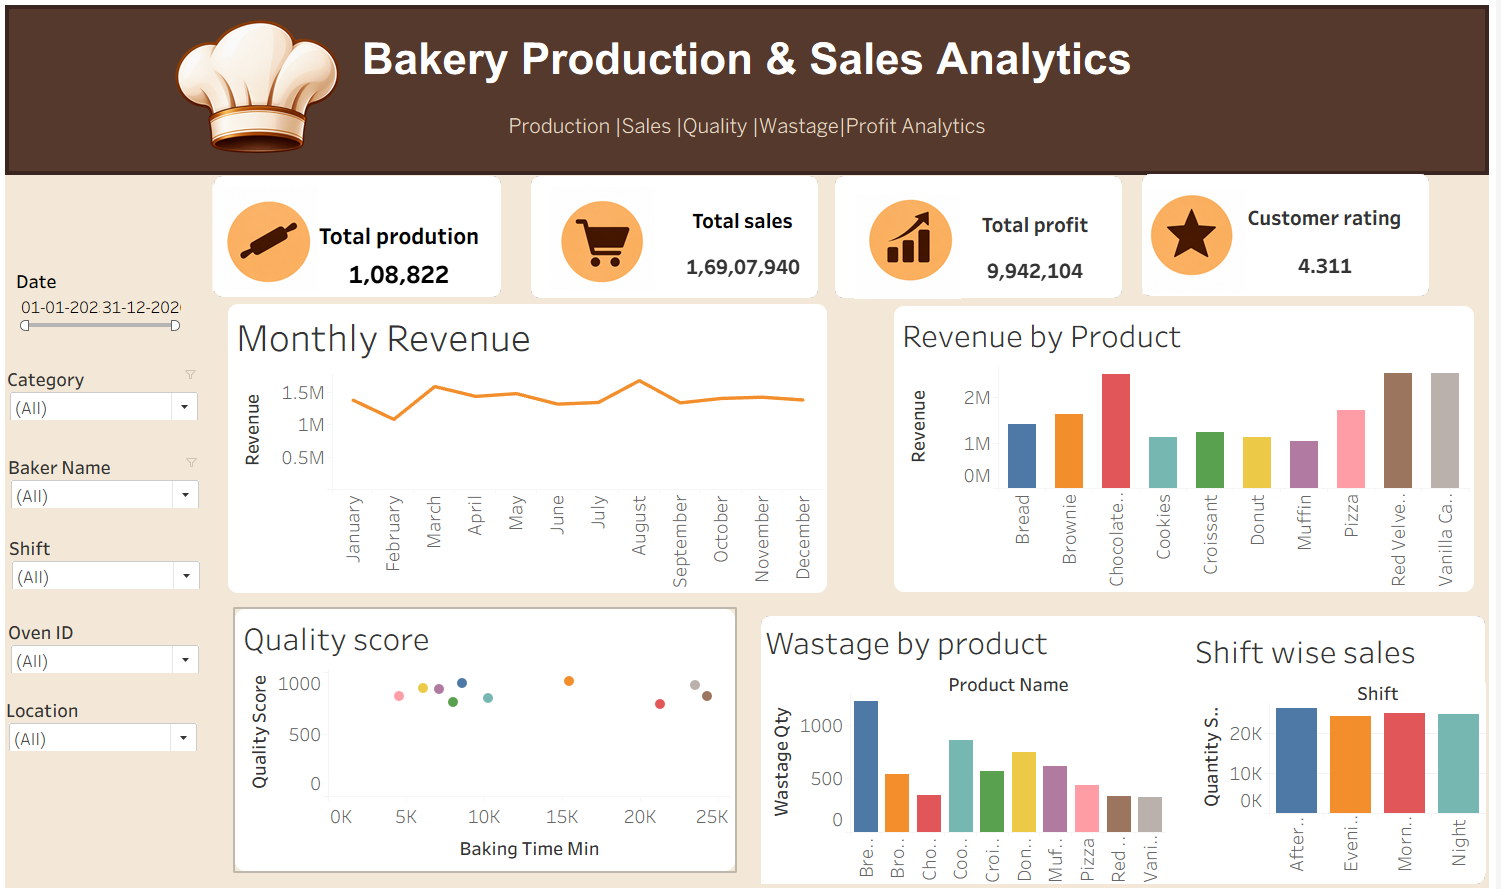

The dashboard page shown, as its layout file describes it:
{"tool":"tableau","page":{"name":"Dashboard 1","canvas":[1500,900],"ordinal":0},"visuals":[{"type":"text","box":[8,8,1484,170]},{"type":"image","param":"Image/Glossy Cream Chef Hat Icon.png","box":[118,16,285,142]},{"type":"worksheet","title":"Product name","mark":"Automatic","box":[212,177,1278,129]},{"type":"image","param":"Image/01_Total_Production_Rolling_Pin.png","box":[215,187,107,109]},{"type":"image","param":"Image/02_Total_Sales_Shopping_Cart.png","box":[552,187,107,109]},{"type":"image","param":"Image/06_Avg_Customer_Rating_Star.png","box":[1145,191,109,106]},{"type":"worksheet","title":"Total prodution","mark":"Automatic","box":[309,193,186,95]},{"type":"image","param":"Image/04_Total_Profit_Growth.png","box":[857,195,107,109]},{"type":"worksheet","title":"Customer rating","mark":"Automatic","box":[1236,202,183,90]},{"type":"worksheet","title":"Total sales","mark":"Automatic","box":[654,205,183,86]},{"type":"worksheet","title":"Total profit","mark":"Automatic","box":[945,209,186,86]},{"type":"filter","title":"date","param":"[federated.12jojup04qzluu16tpi3t102rvai].[none:Date:qk]","box":[19,271,168,71]},{"type":"worksheet","title":"date","mark":"Automatic","box":[11,279,180,45]},{"type":"worksheet","title":"Monthly Revenue","mark":"Line","rows":["Revenue"],"cols":["Date"],"box":[231,307,599,289]},{"type":"worksheet","title":"Revenue by Product","mark":"Bar","rows":["Revenue"],"cols":["Product_Name"],"box":[897,309,580,286]},{"type":"worksheet","title":"Category","mark":"Automatic","box":[12,368,193,44]},{"type":"filter","title":"Category","param":"[federated.12jojup04qzluu16tpi3t102rvai].[none:Category:nk]","box":[10,369,194,54]},{"type":"filter","title":"Baker Name","param":"[federated.12jojup04qzluu16tpi3t102rvai].[none:Baker_Name:nk]","box":[11,457,194,54]},{"type":"worksheet","title":"Baker Name","mark":"Automatic","box":[12,461,194,51]},{"type":"filter","title":"Shift","param":"[federated.12jojup04qzluu16tpi3t102rvai].[none:Shift:nk]","box":[12,538,194,54]},{"type":"worksheet","title":"Shift","mark":"Automatic","box":[13,541,194,47]},{"type":"worksheet","title":"Quality score","mark":"Circle","rows":["Quality_Score"],"cols":["Baking_Time_Min"],"box":[238,612,500,262]},{"type":"worksheet","title":"Wastage by product","mark":"Automatic","rows":["Wastage_Qty"],"cols":["Product_Name"],"box":[764,620,405,268]},{"type":"filter","title":"Oven ID","param":"[federated.12jojup04qzluu16tpi3t102rvai].[none:Oven_ID:nk]","box":[11,622,194,54]},{"type":"worksheet","title":"Oven ID","mark":"Automatic","box":[5,623,200,51]},{"type":"worksheet","title":"Shift wise sales","mark":"Automatic","rows":["Quantity_Sold"],"cols":["Shift"],"box":[1194,629,295,247]},{"type":"filter","title":"Location","param":"[federated.12jojup04qzluu16tpi3t102rvai].[none:Location:nk]","box":[9,700,194,54]},{"type":"worksheet","title":"Location","mark":"Automatic","box":[5,707,198,50]}]}

Visuals, with their boxes in screenshot pixels (x1, y1, x2, y2), scaled from the page's 1500x900 canvas onto the 1501x889 screenshot:
text: box=[8, 8, 1493, 176]
image: box=[118, 16, 403, 156]
"Product name" worksheet: box=[212, 175, 1491, 302]
image: box=[215, 185, 322, 292]
image: box=[552, 185, 659, 292]
image: box=[1146, 189, 1255, 293]
"Total prodution" worksheet: box=[309, 191, 495, 284]
image: box=[858, 193, 965, 300]
"Customer rating" worksheet: box=[1237, 200, 1420, 288]
"Total sales" worksheet: box=[654, 202, 838, 287]
"Total profit" worksheet: box=[946, 206, 1132, 291]
"date" filter: box=[19, 268, 187, 338]
"date" worksheet: box=[11, 276, 191, 320]
"Monthly Revenue" worksheet (Line marks): box=[231, 303, 831, 589]
"Revenue by Product" worksheet (Bar marks): box=[898, 305, 1478, 588]
"Category" worksheet: box=[12, 364, 205, 407]
"Category" filter: box=[10, 364, 204, 418]
"Baker Name" filter: box=[11, 451, 205, 505]
"Baker Name" worksheet: box=[12, 455, 206, 506]
"Shift" filter: box=[12, 531, 206, 585]
"Shift" worksheet: box=[13, 534, 207, 581]
"Quality score" worksheet (Circle marks): box=[238, 605, 738, 863]
"Wastage by product" worksheet: box=[765, 612, 1170, 877]
"Oven ID" filter: box=[11, 614, 205, 668]
"Oven ID" worksheet: box=[5, 615, 205, 666]
"Shift wise sales" worksheet: box=[1195, 621, 1490, 865]
"Location" filter: box=[9, 691, 203, 745]
"Location" worksheet: box=[5, 698, 203, 748]
